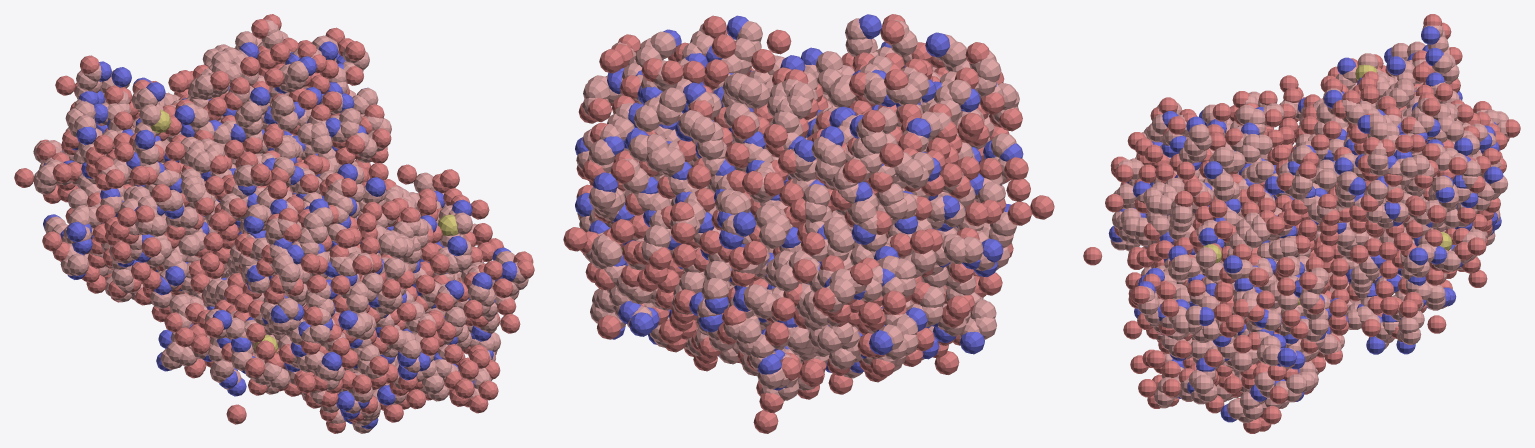
File: 1gfl__spheres__default.glb
3 renders of one model, left to right at view 1: azimuth 30°, elevation 25°; view 2: azimuth 150°, elevation 25°; view 3: azimuth 270°, elevation 25°, orthographic. The views are drawn at different scales.
Visible parts, largest first — view 1: Renderer Node; view 2: Renderer Node; view 3: Renderer Node.
Boxes of the visible parts, x1,y1,x2,y2 form: Renderer Node: (14,14,534,433); Renderer Node: (563,14,1054,433); Renderer Node: (1083,14,1520,433).
Size of the model in its own units: 64.21 by 56.48 by 69.87.
